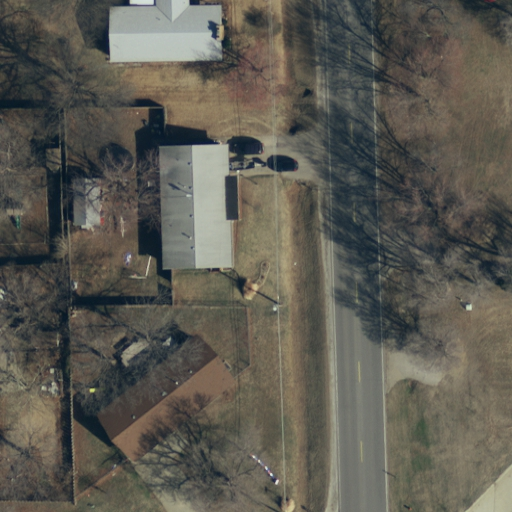DT: (266, 289, 291, 319)
